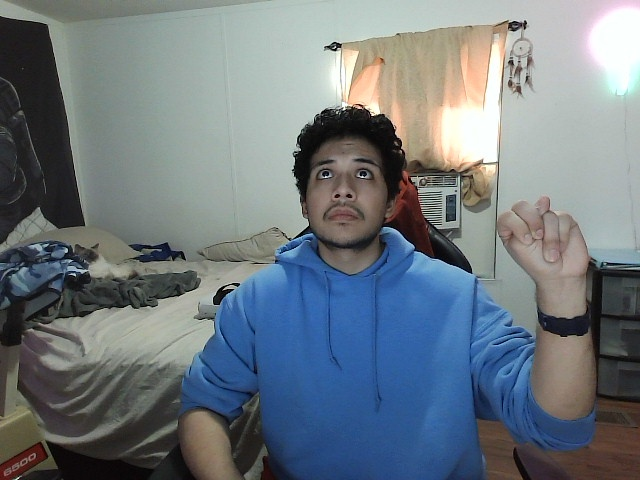N: (492, 194, 595, 278)
